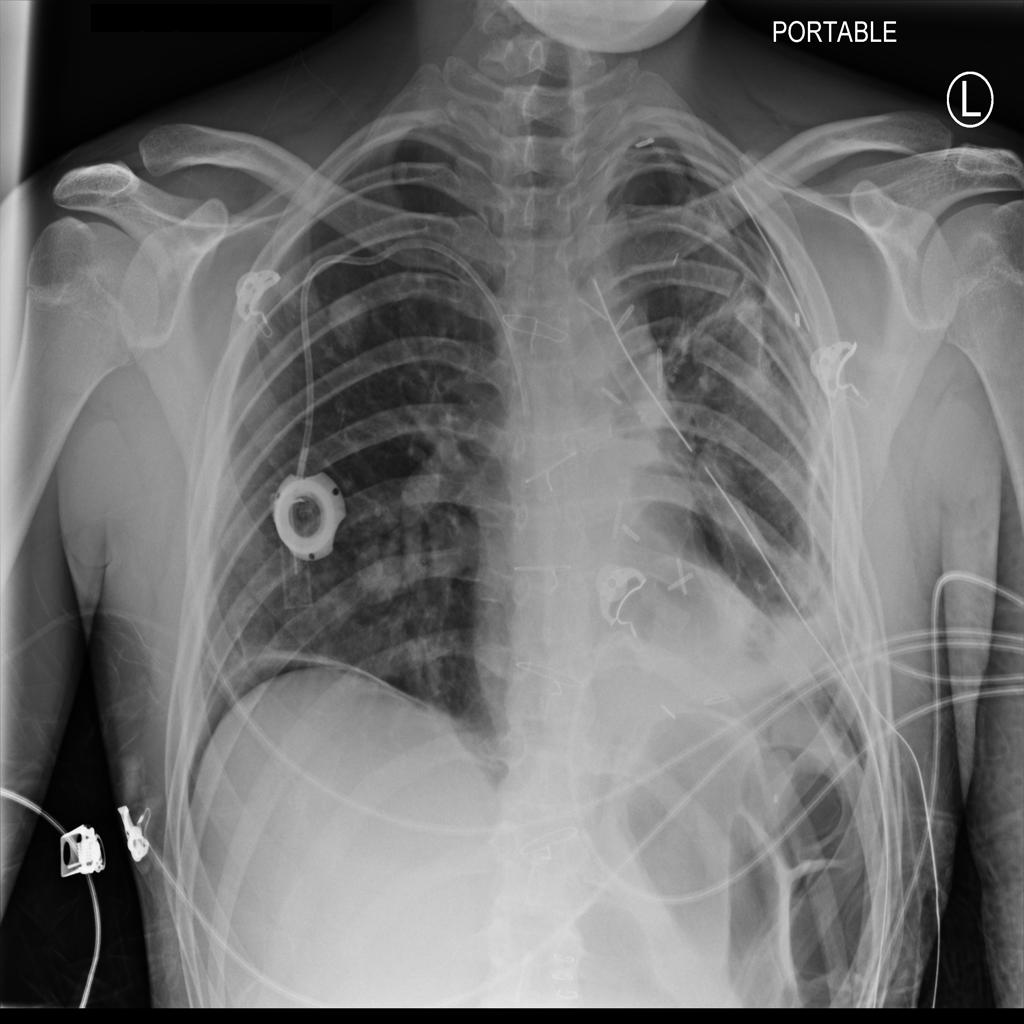nodule: (349, 527, 419, 608), (317, 278, 382, 363), (392, 446, 459, 524)
